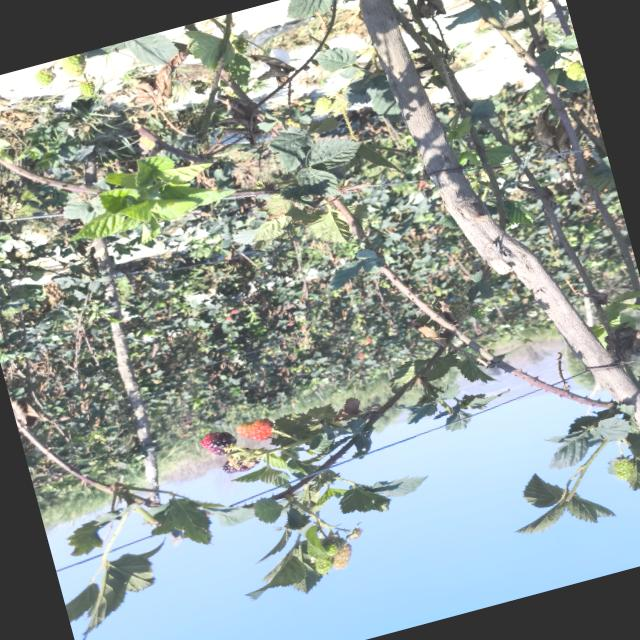maduro: (222, 460, 240, 474), (241, 468, 249, 471)
marron: (200, 431, 236, 455)
naranja: (235, 418, 273, 440)
verde: (332, 543, 351, 569), (612, 457, 633, 480), (315, 556, 333, 574), (324, 542, 338, 556)
